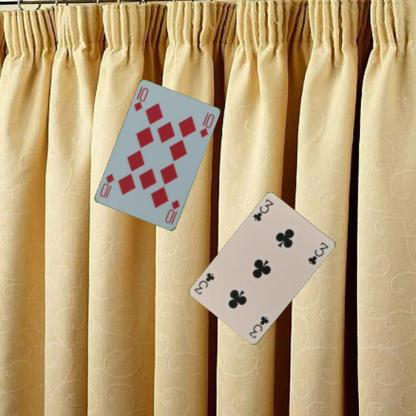10d: (162, 197, 181, 225), (131, 84, 150, 112)
3c: (251, 196, 275, 223), (246, 314, 270, 340)
